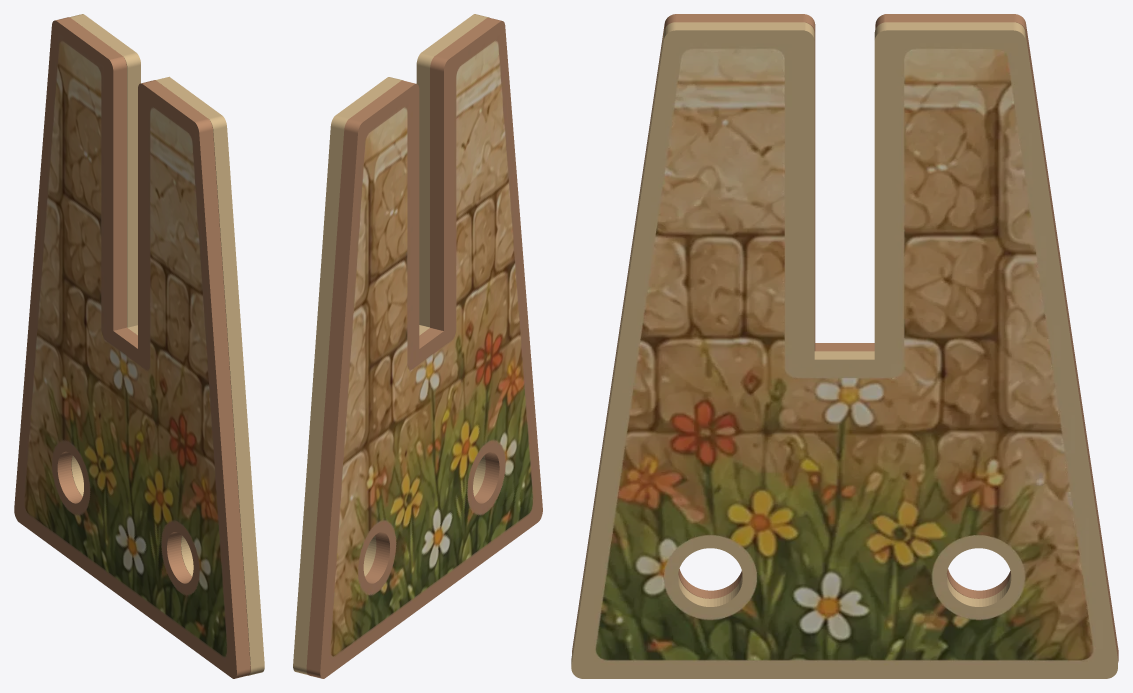
Rendered from bottom-stabilizer-02.glb.
3 views of the same model, side by side, from view 1: azimuth 30°, elevation 25°; view 2: azimuth 150°, elevation 25°; view 3: azimuth 270°, elevation 25° (orthographic). The views are drawn at different scales.
Parts seen in each view (by area): view 1: bottom-stabilizer-02; view 2: bottom-stabilizer-02; view 3: bottom-stabilizer-02.
Part boxes in pixels (x1,y1,x2,y2): bottom-stabilizer-02: (14,14,264,678); bottom-stabilizer-02: (293,14,542,678); bottom-stabilizer-02: (571,14,1118,678).
Bounding box in the file's own units: 18 × 330 × 253.
Materials: 4 (2 with a texture image).
